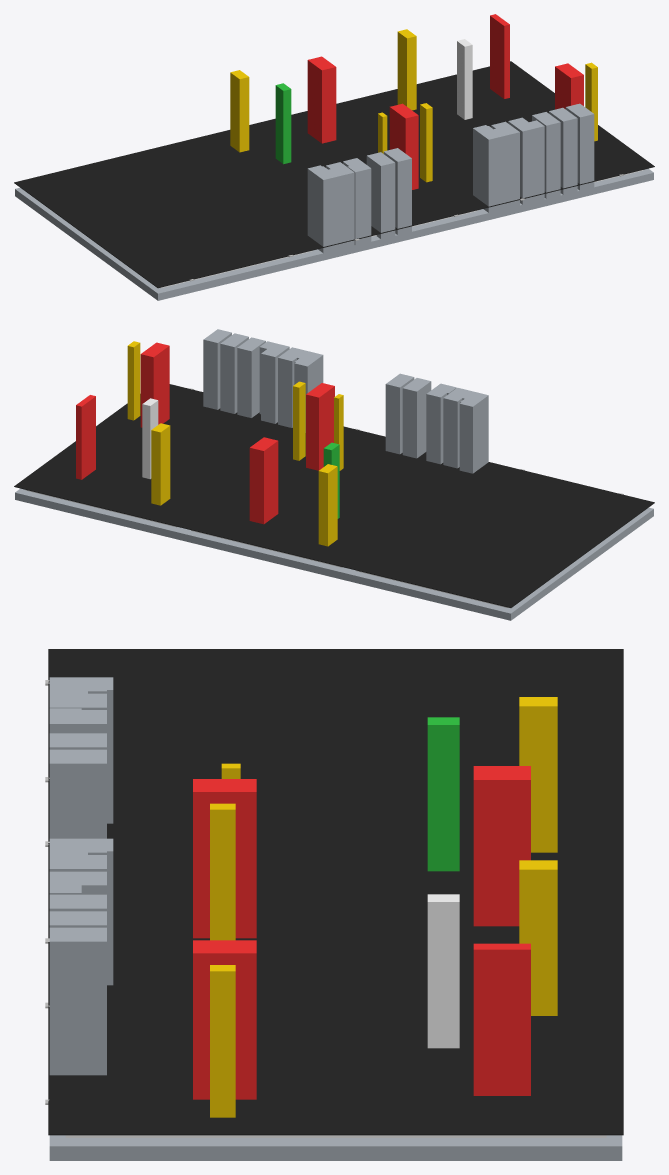
File: Tranh điện siêu mỏng.obj
3 views of the same model, one above another, from view 1: azimuth 30°, elevation 25°; view 2: azimuth 150°, elevation 25°; view 3: azimuth 270°, elevation 25° (orthographic). The views are drawn at different scales.
Visible parts, largest first — view 1: tranh_dien_sieu_mong; view 2: tranh_dien_sieu_mong; view 3: tranh_dien_sieu_mong.
Part boxes in pixels (x1,y1,x2,y2): tranh_dien_sieu_mong: (14, 14, 654, 300); tranh_dien_sieu_mong: (14, 329, 654, 620); tranh_dien_sieu_mong: (45, 649, 623, 1160).
Size of the model in its own units: 1.8 by 0.302 by 0.909.
